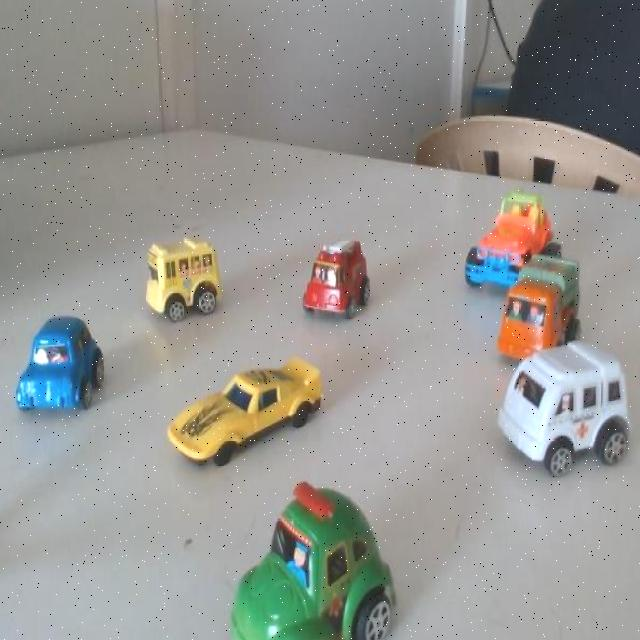car: (209, 480, 399, 640), (475, 314, 629, 505), (173, 348, 317, 480), (454, 183, 542, 295), (137, 232, 229, 338), (298, 225, 379, 340), (503, 248, 572, 369), (15, 314, 94, 418)
